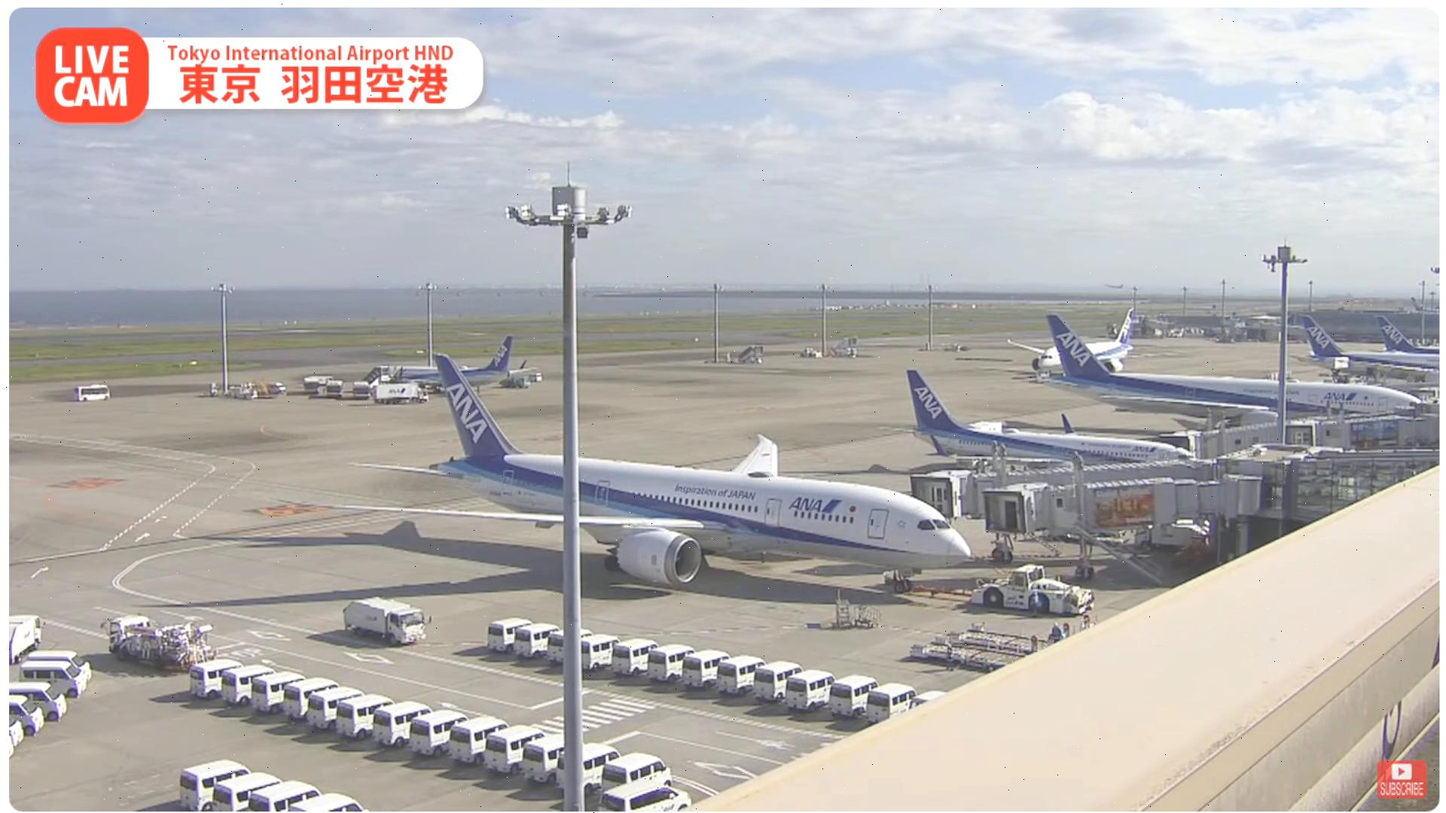APS: (969, 564, 1106, 619)
Aerobridge: (908, 457, 1217, 520), (983, 476, 1264, 540)
Airplane: (330, 354, 973, 599)
Baggage truck: (338, 591, 433, 649)
JCPL: (946, 622, 1056, 658), (909, 640, 1028, 672)
Window: (1290, 456, 1440, 523)
